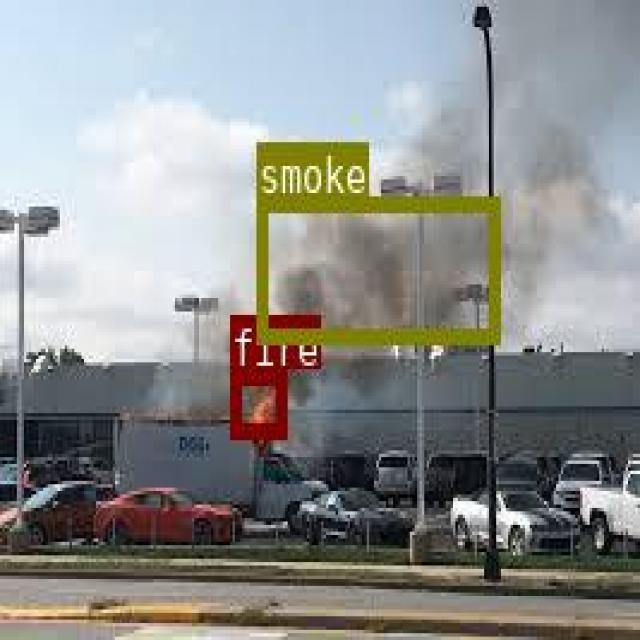fire: (230, 368, 284, 436)
smoke: (255, 195, 497, 342)
